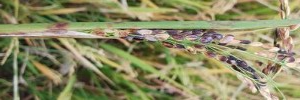RiceSheathBrownRot: (1, 22, 300, 77)
